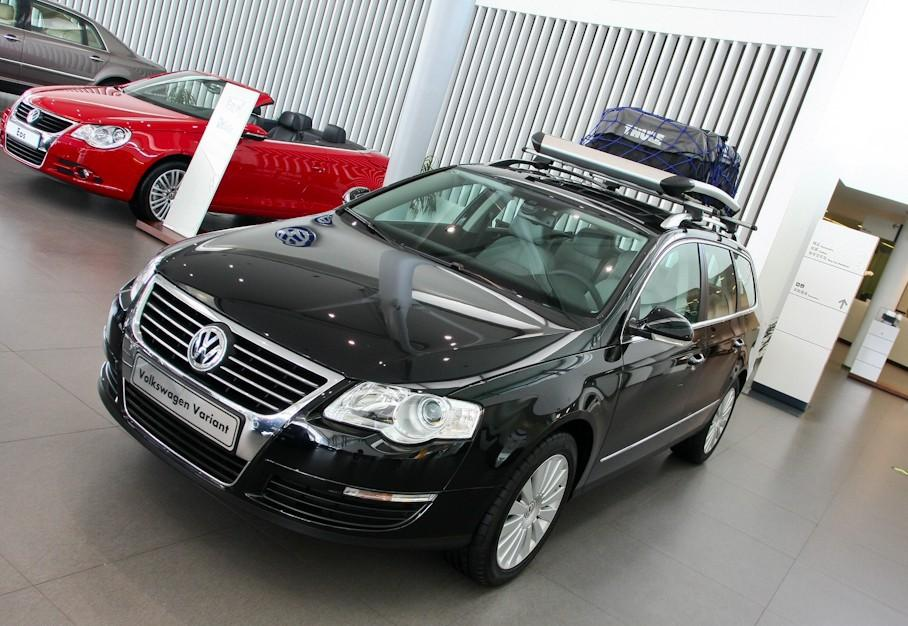Wagon: (96, 162, 766, 590)
